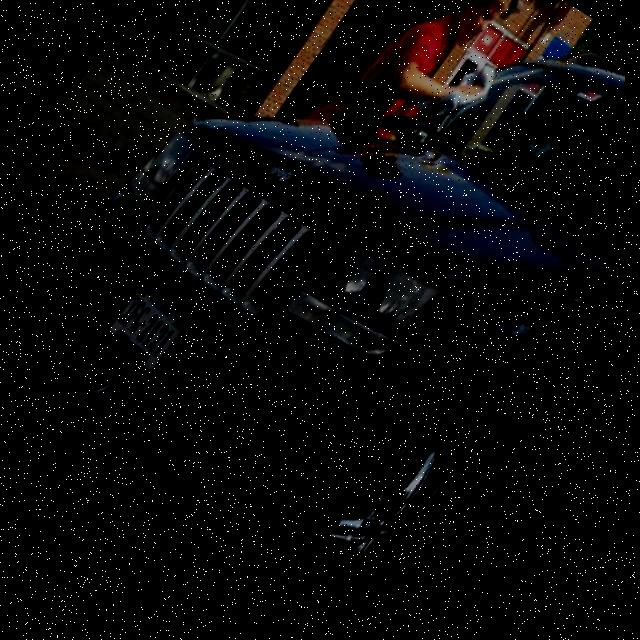license_plate: (98, 272, 208, 393)
